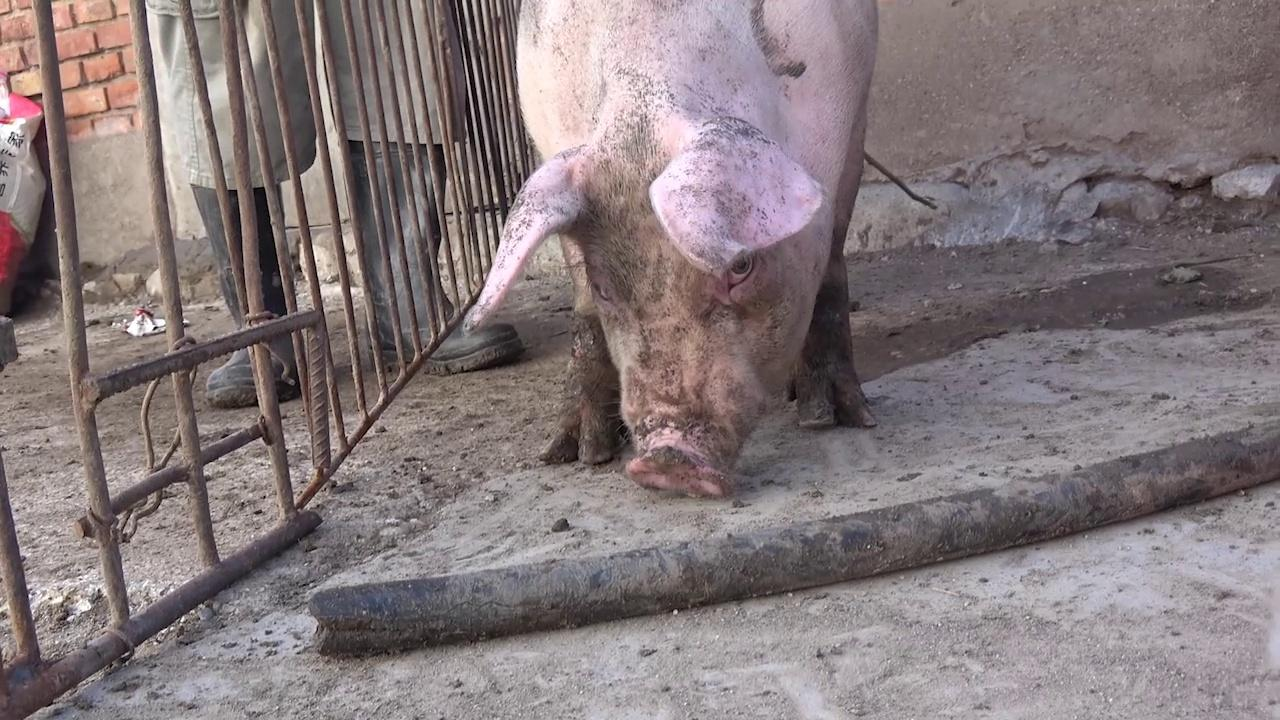Face: (465, 116, 853, 513)
